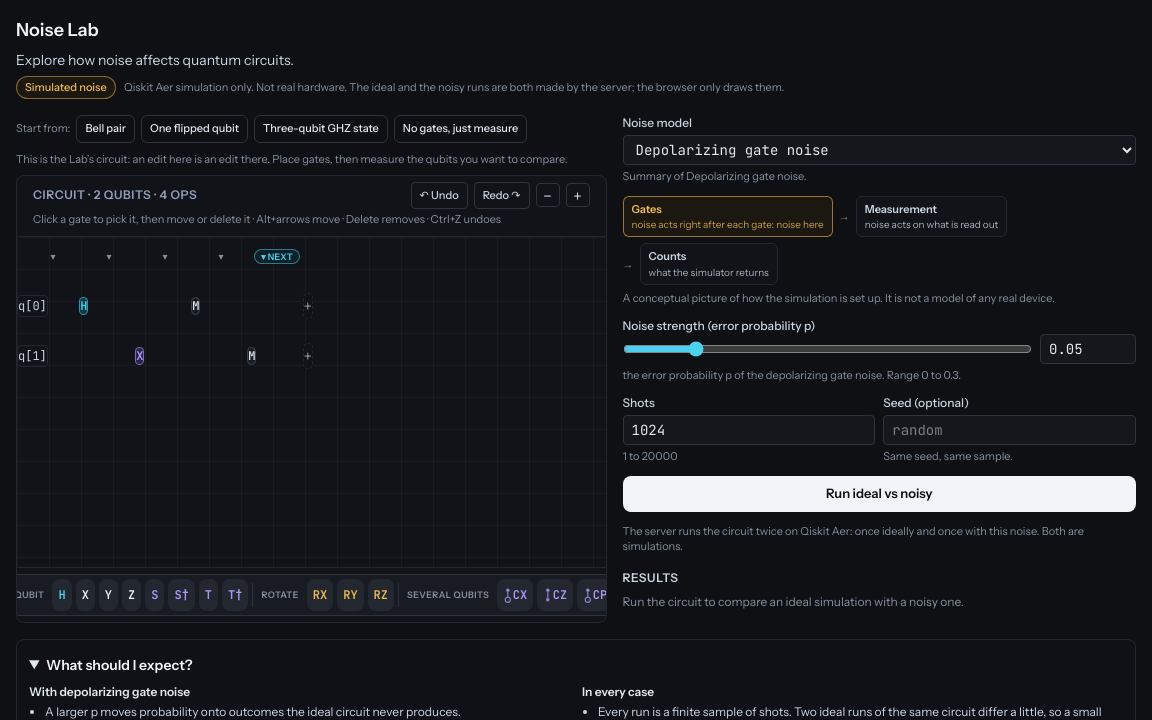
Test case: the controls › choosing a model resets the strength to that model’s default and range
Select "Amplitude-damping gate noise" in the dropdown labelled "Noise model" at (879, 150), box [622,134,1136,164]
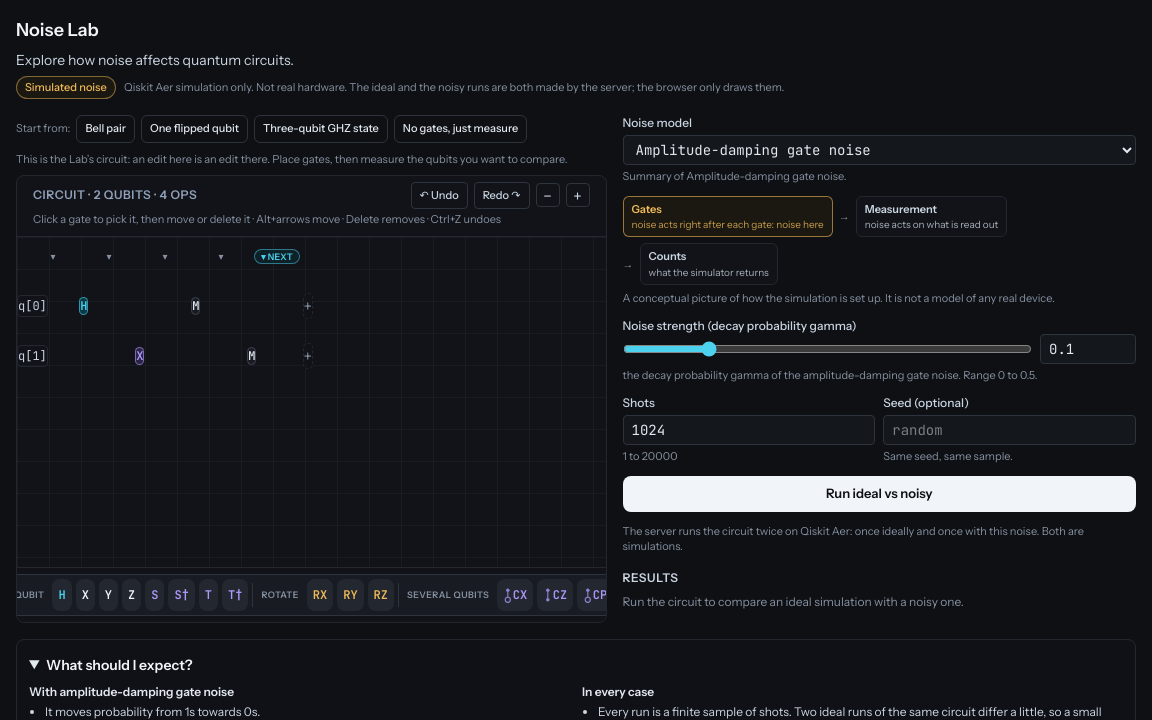
Result: the element "decay probability gamma" is shown at [622,318,1136,383]
